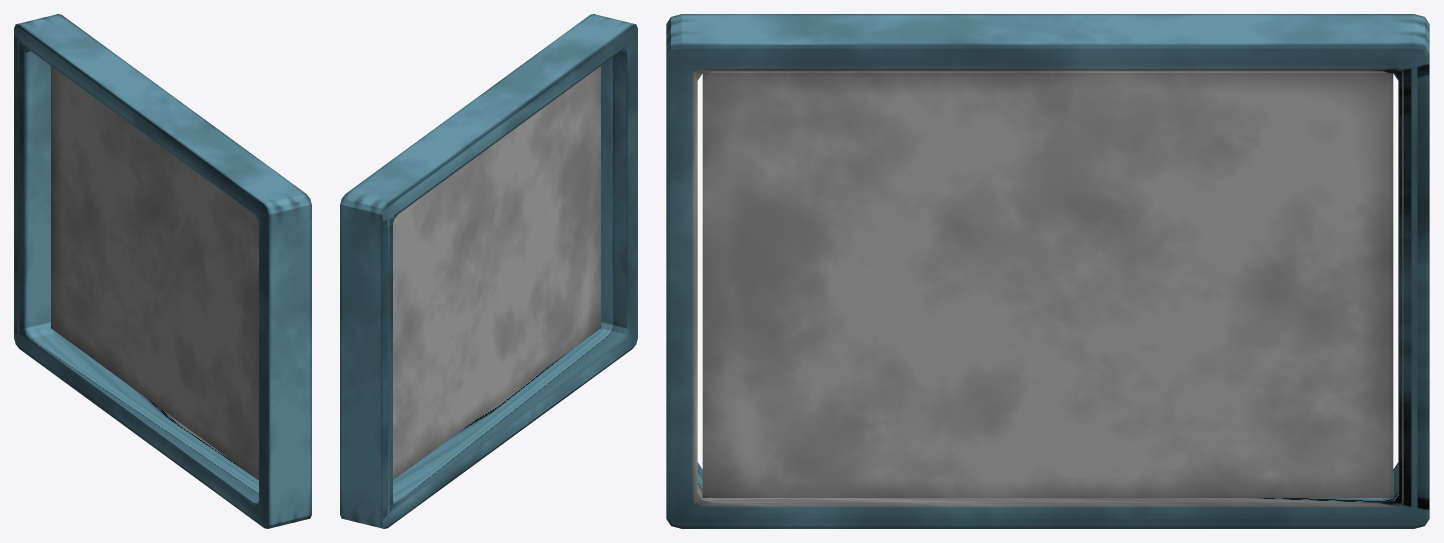
File: Board.fbx
3 renders of one model, left to right at view 1: azimuth 30°, elevation 25°; view 2: azimuth 150°, elevation 25°; view 3: azimuth 270°, elevation 25°, orthographic. The views are drawn at different scales.
Parts seen in each view (by area): view 1: Cube.045, Cube.044; view 2: Cube.045, Cube.044; view 3: Cube.045, Cube.044.
Boxes of the visible parts, x1,y1,x2,y2 form: Cube.045: (51,66,258,479); Cube.044: (14,14,311,528); Cube.045: (393,66,600,479); Cube.044: (340,14,637,528); Cube.045: (702,71,1393,497); Cube.044: (666,14,1429,528).
Size of the model in its own units: 10 by 70 by 100.
1 material, 1 textured.
